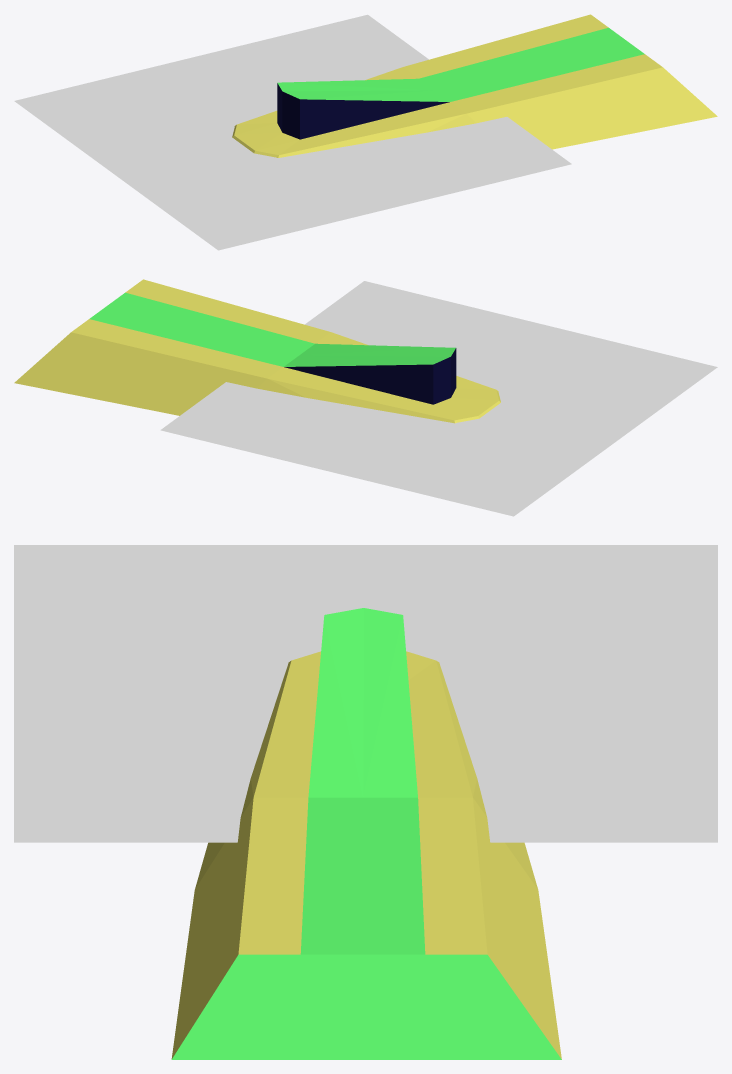
The model's file is beachcity.dae.
3 views of the same model, one above another, from view 1: azimuth 30°, elevation 25°; view 2: azimuth 150°, elevation 25°; view 3: azimuth 270°, elevation 25° (orthographic). The views are drawn at different scales.
Parts seen in each view (by area): view 1: Plane, Cube; view 2: Plane, Cube; view 3: Plane, Cube.
Boxes of the visible parts, box(x1,y1,x2,y2) form: Plane: box(14, 14, 571, 250); Cube: box(232, 14, 717, 157); Plane: box(160, 281, 717, 516); Cube: box(14, 279, 500, 423); Plane: box(14, 545, 717, 842); Cube: box(171, 608, 561, 1059).
Bounding box in the file's own units: 2042 × 1325 × 276.
